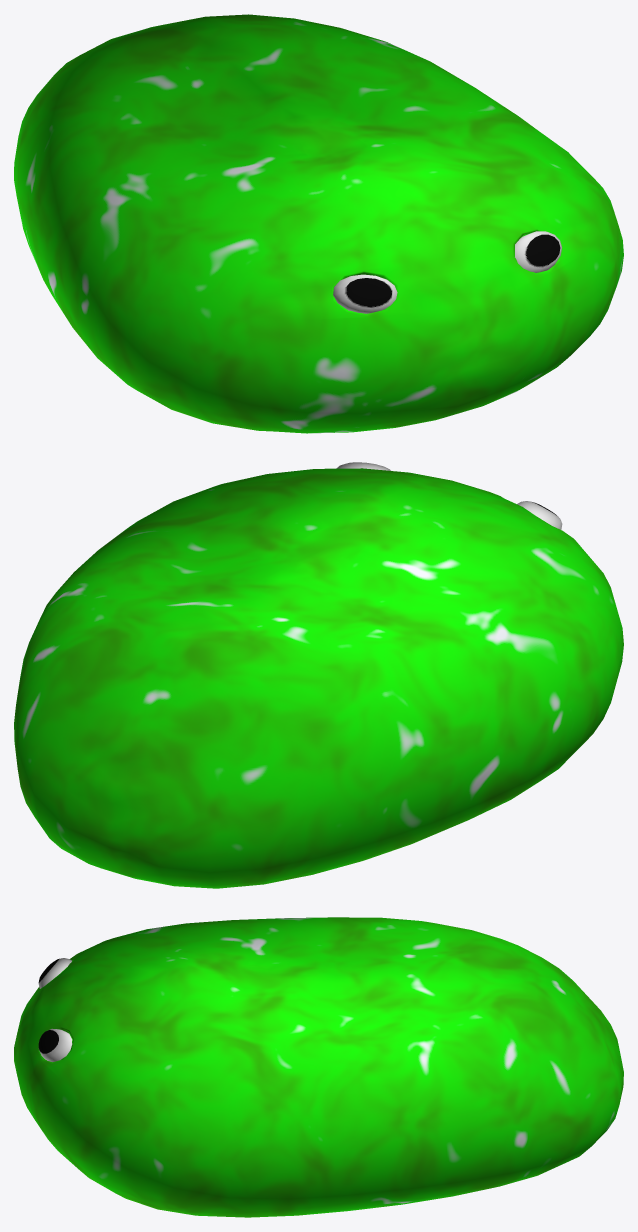
File: FireSlime.fbx
3 views of the same model, one above another, from view 1: azimuth 30°, elevation 25°; view 2: azimuth 150°, elevation 25°; view 3: azimuth 270°, elevation 25° (orthographic). The views are drawn at different scales.
Parts seen in each view (by area): view 1: basic slime_Baked; view 2: basic slime_Baked; view 3: basic slime_Baked.
Boxes of the visible parts, <box> form: basic slime_Baked: <box>14,14,623,433</box>; basic slime_Baked: <box>14,462,623,888</box>; basic slime_Baked: <box>14,917,623,1217</box>.
Bounding box in the file's own units: 186 × 82.78 × 245.
1 material, 1 textured.
